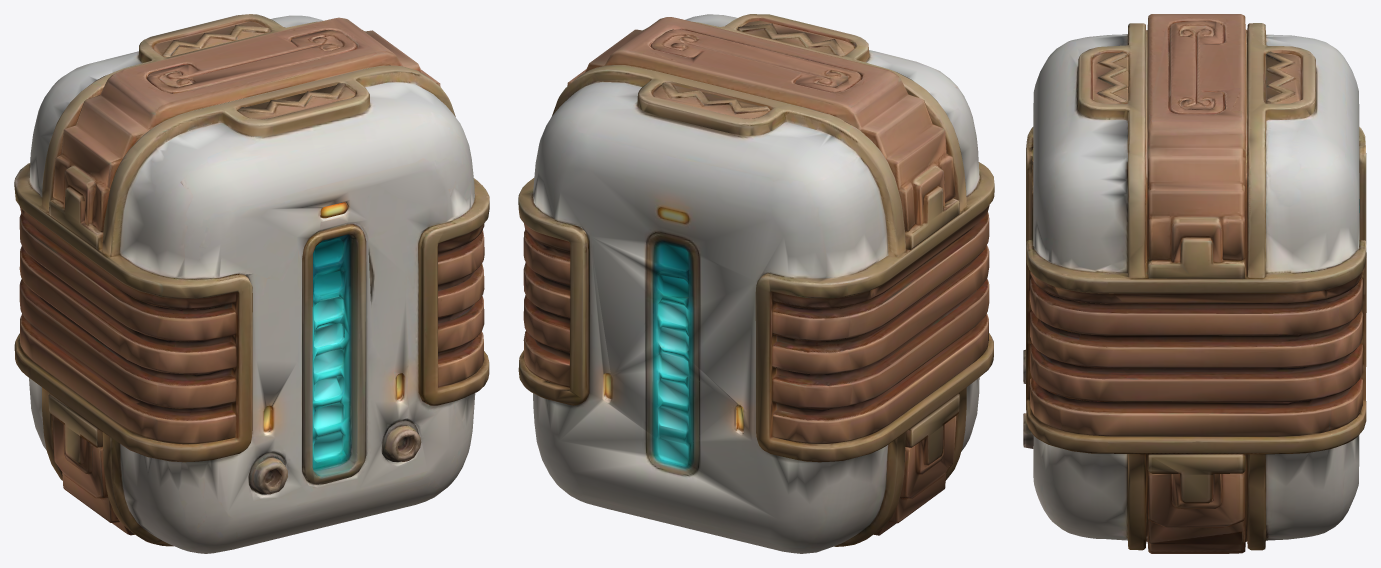
The model's file is battery.glb.
3 renders of one model, left to right at view 1: azimuth 30°, elevation 25°; view 2: azimuth 150°, elevation 25°; view 3: azimuth 270°, elevation 25°, orthographic.
Parts seen in each view (by area): view 1: node_0; view 2: node_0; view 3: node_0.
Boxes of the visible parts, x1,y1,x2,y2 form: node_0: [14, 14, 489, 553]; node_0: [518, 14, 994, 553]; node_0: [1023, 14, 1366, 553].
Bounding box in the file's own units: 1.29 × 1.5 × 1.09.
Materials: 1 (1 with a texture image).
